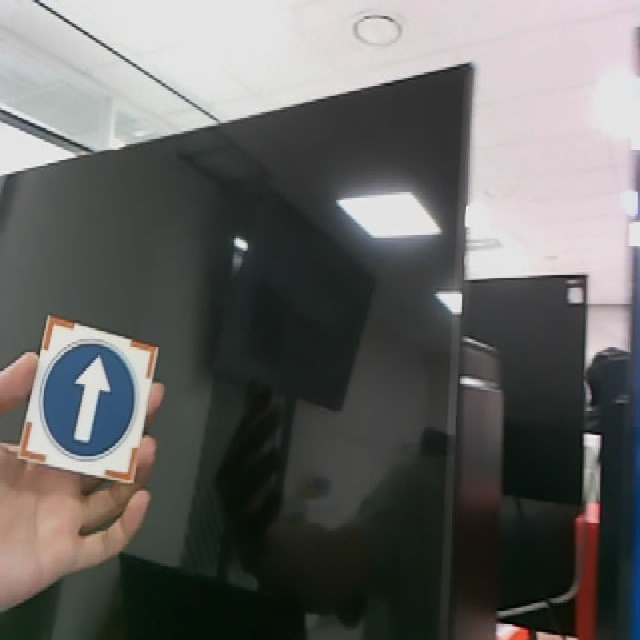strait: (15, 313, 161, 487)
